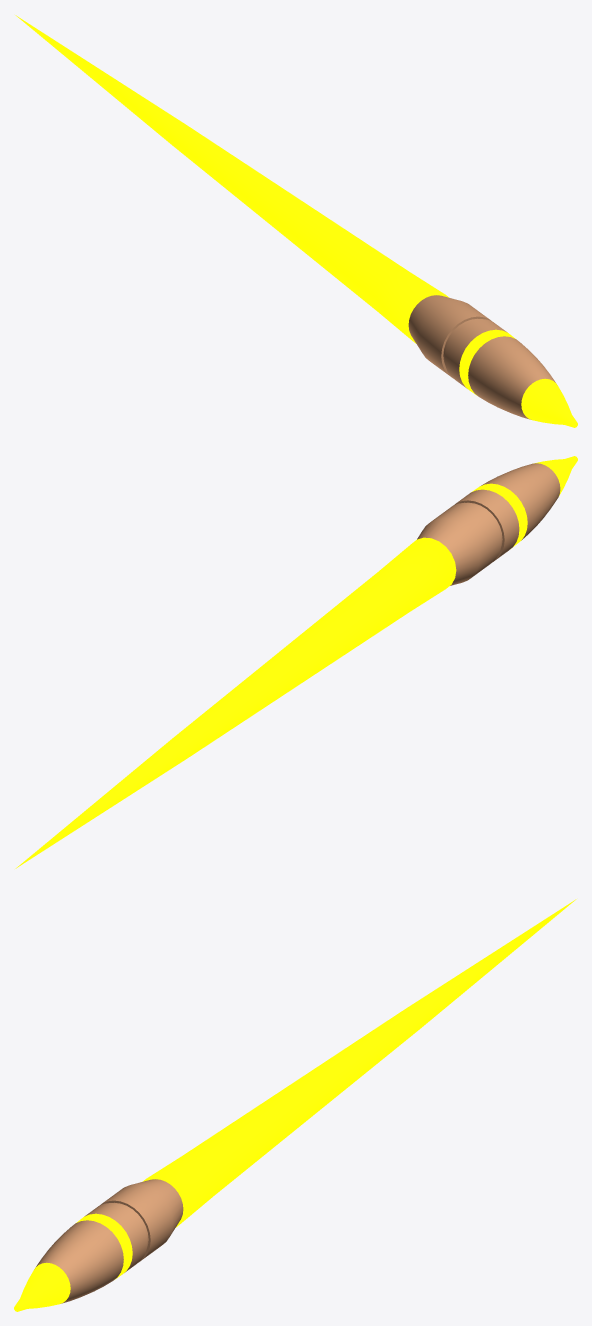
File: GravitySniper_Bolt_inc.fbx
3 views of the same model, one above another, from view 1: azimuth 30°, elevation 25°; view 2: azimuth 150°, elevation 25°; view 3: azimuth 330°, elevation 25° (orthographic).
Visible parts, largest first — view 1: Bolt_Estela_Halo_Incendiaria, Bolt_Bala_Incendiaria; view 2: Bolt_Estela_Halo_Incendiaria, Bolt_Bala_Incendiaria; view 3: Bolt_Estela_Halo_Incendiaria, Bolt_Bala_Incendiaria.
Boxes of the visible parts, x1=… form: Bolt_Estela_Halo_Incendiaria: x1=15, y1=15, x2=449, y2=343; Bolt_Bala_Incendiaria: x1=408, y1=295, x2=577, y2=427; Bolt_Estela_Halo_Incendiaria: x1=15, y1=537, x2=456, y2=868; Bolt_Bala_Incendiaria: x1=417, y1=456, x2=577, y2=585; Bolt_Estela_Halo_Incendiaria: x1=142, y1=899, x2=576, y2=1227; Bolt_Bala_Incendiaria: x1=14, y1=1179, x2=183, y2=1311.
Bounding box in the file's own units: 2.9 × 2.9 × 46.79.
